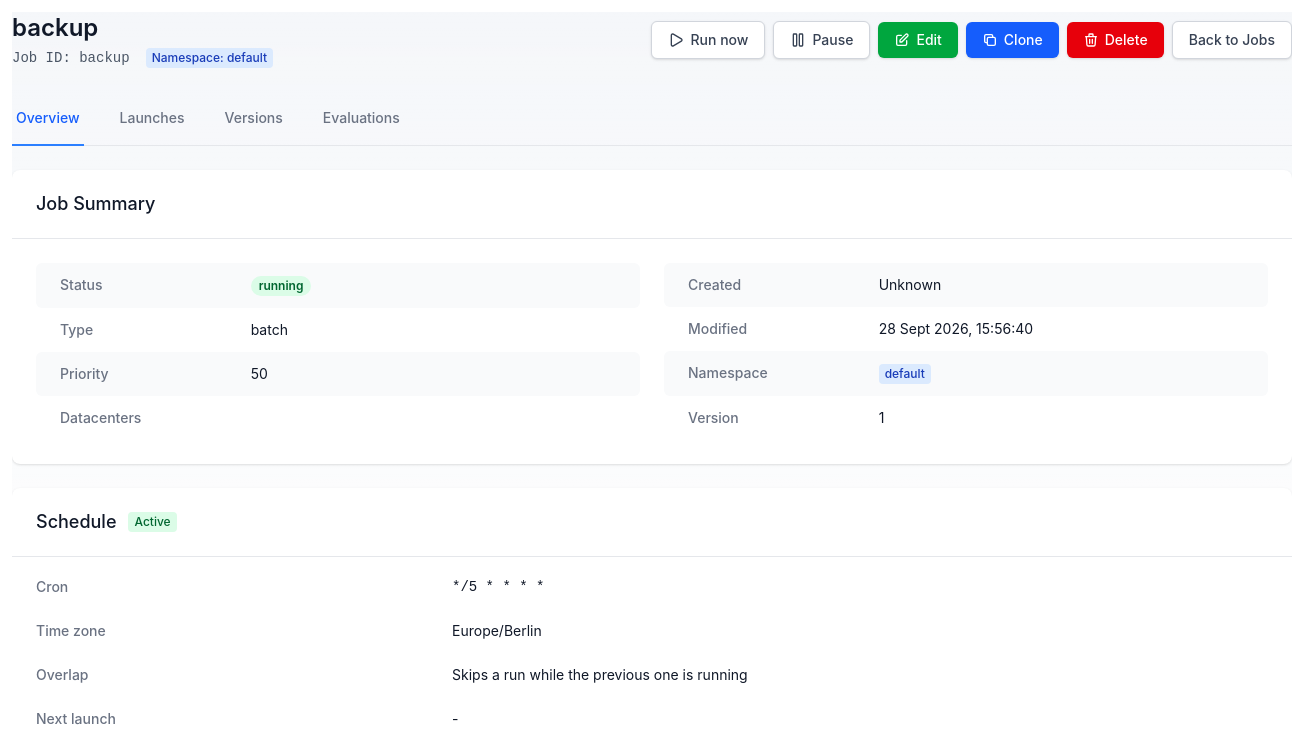
Test case: JobDetailPage for a periodic job › a failed refresh keeps the page and shows the error in a toast
This screenshot has width=1292, height=732.
Click the button "Pause" at {"x": 822, "y": 40}, box [773,21,870,59]
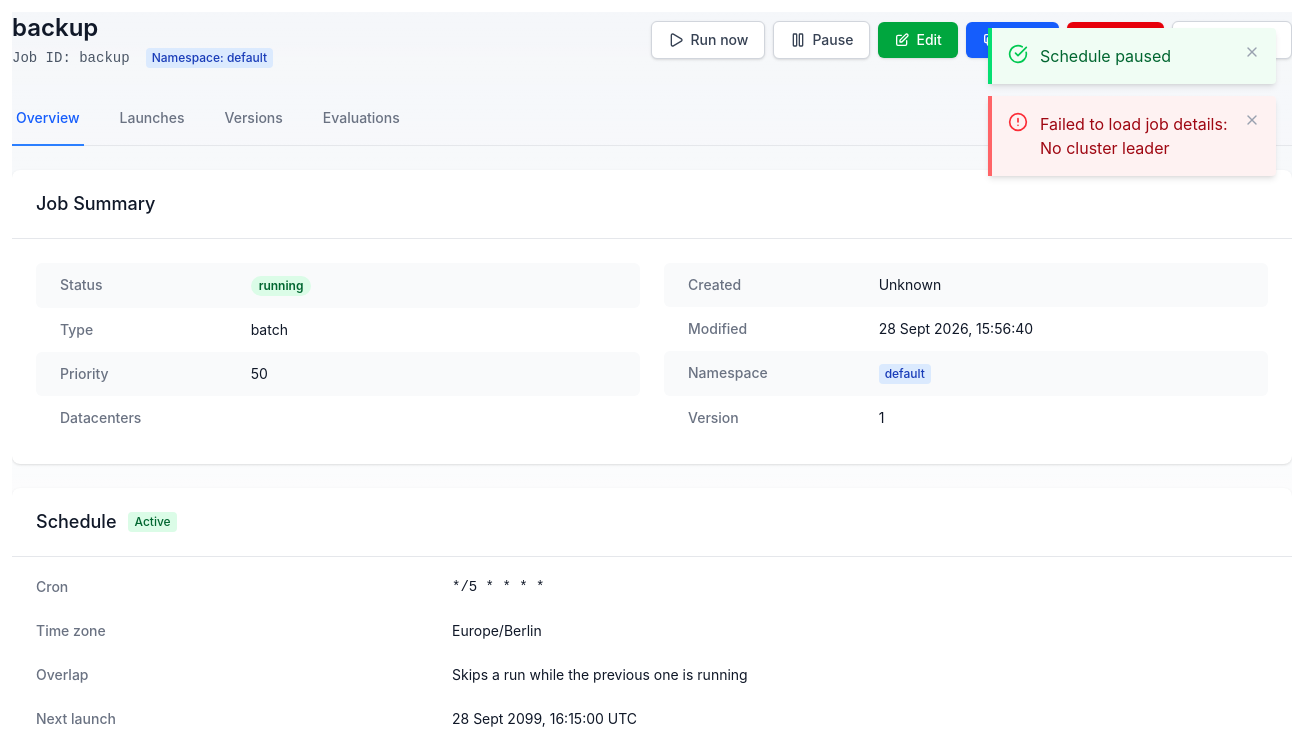
Check: the text "Failed to load job details: No cluster leader" is shown, box [1040,112,1228,160]
